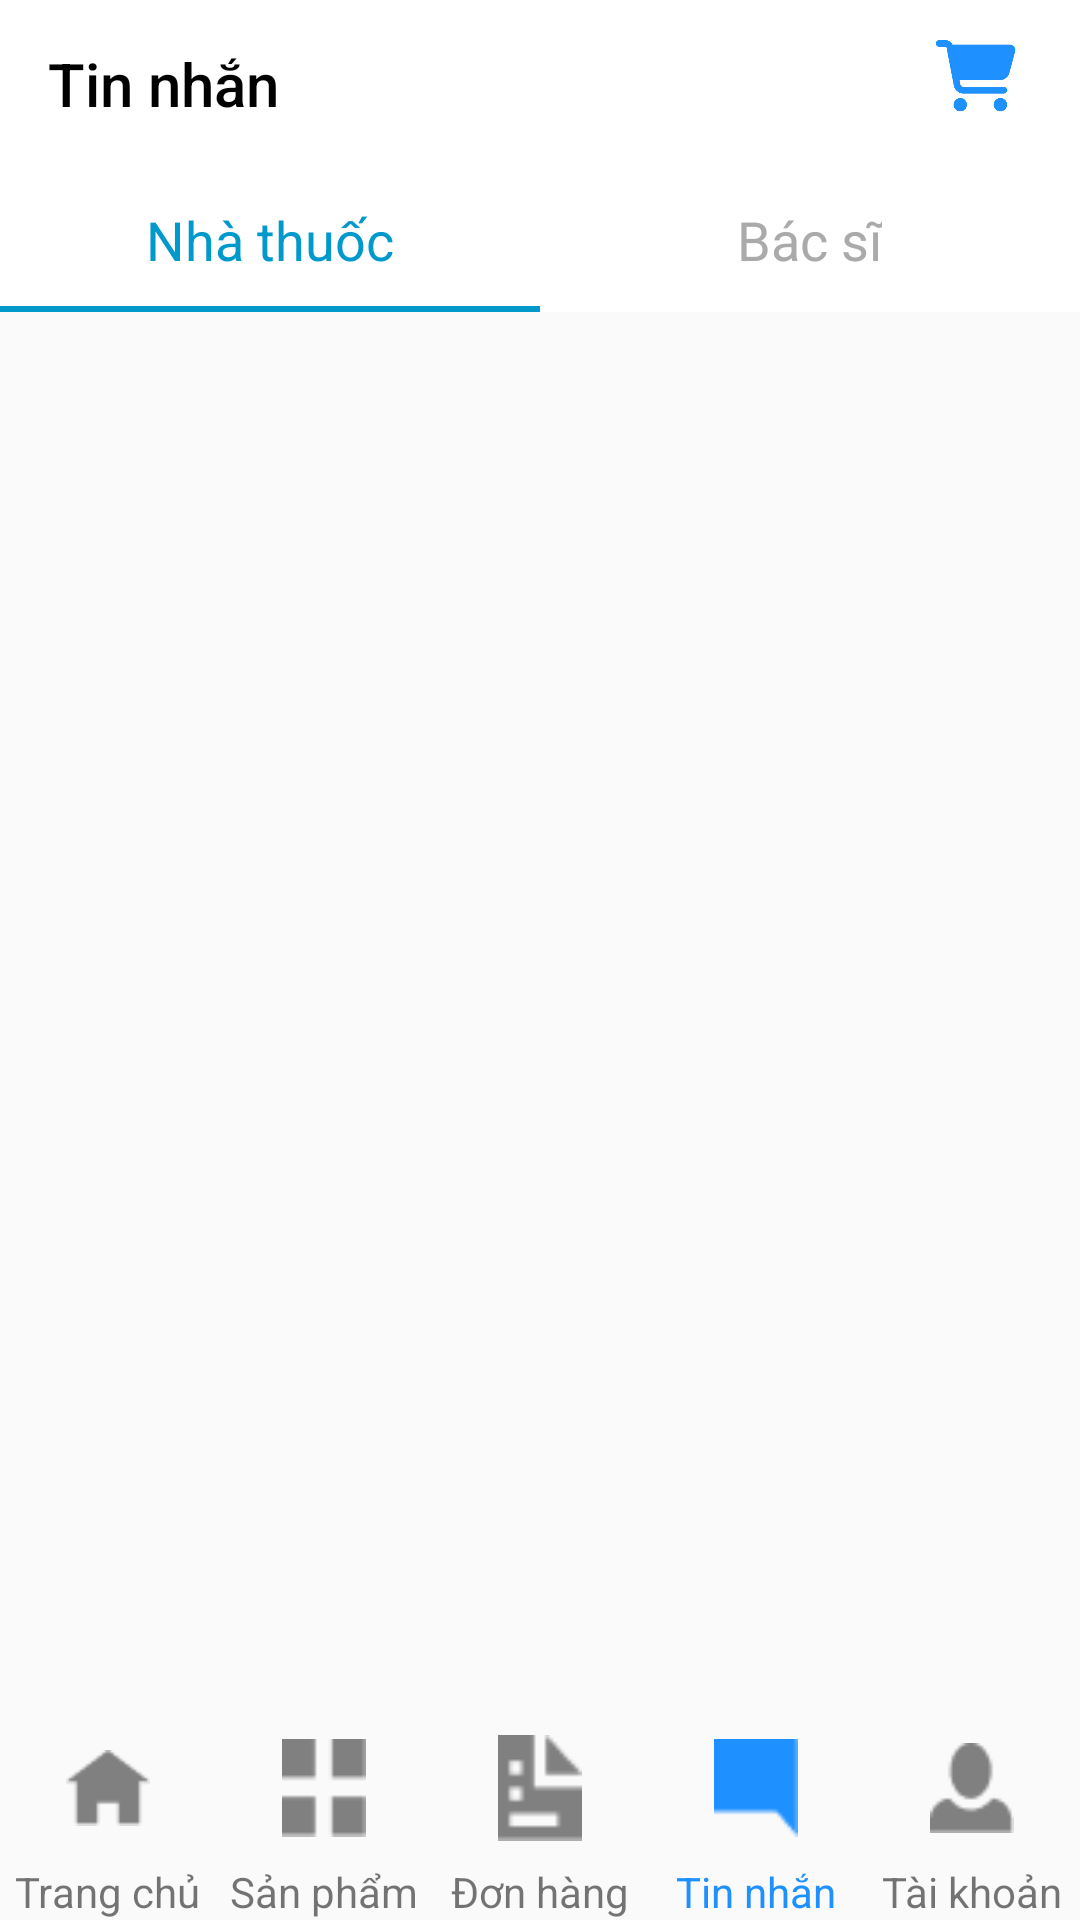

Icons on this 1080px x 1920px Android screen, each with its box as (x1, y1, x2, y2):
home: (68, 1750, 148, 1826)
